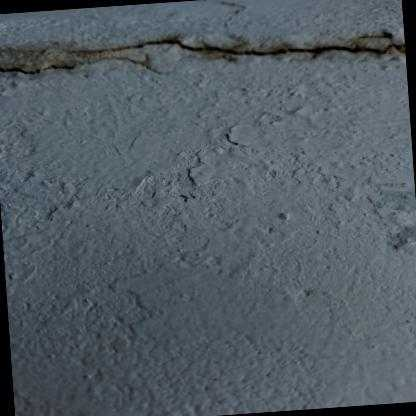crack: (73, 40, 405, 56), (0, 57, 169, 75)
